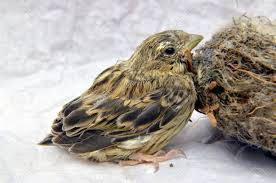hsparrow: (50, 32, 211, 180)
